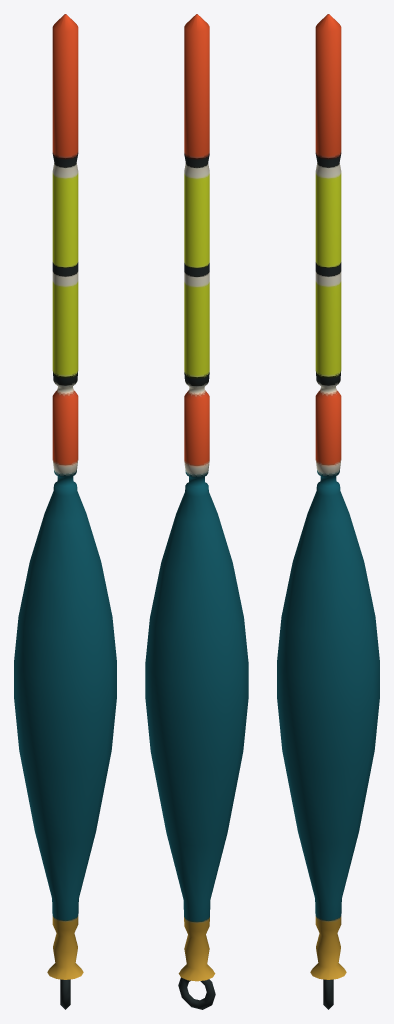
The picture shows the model from 3 angles, left to right: view 1: azimuth 90°, elevation 25°; view 2: azimuth 150°, elevation 25°; view 3: azimuth 270°, elevation 25°; orthographic projection.
Visible parts, largest first — view 1: F13_Float; view 2: F13_Float; view 3: F13_Float.
Boxes of the visible parts, x1,y1,x2,y2 form: F13_Float: (14,14,116,1009); F13_Float: (145,14,248,1009); F13_Float: (277,14,379,1009).
Bounding box in the file's own units: 0.0244 × 0.26 × 0.0244.
Materials: 1 (1 with a texture image).
